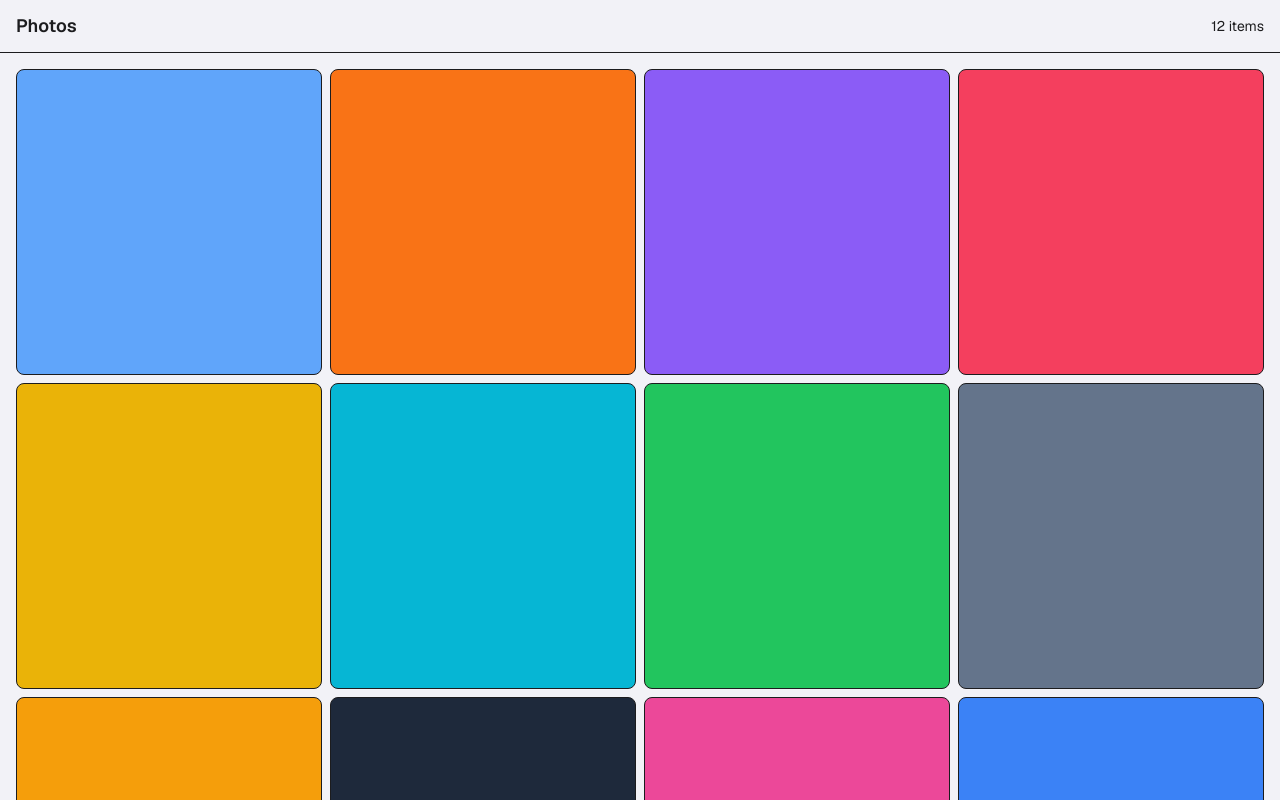
Scenario: Photos › closes the lightbox when the close button is clicked
The image size is (1280, 800).
What coordinates should you click on to do the following:
click the button with test id "photos-item-2"
I would click on:
 (483, 222)
Its box is [330,69,636,375].
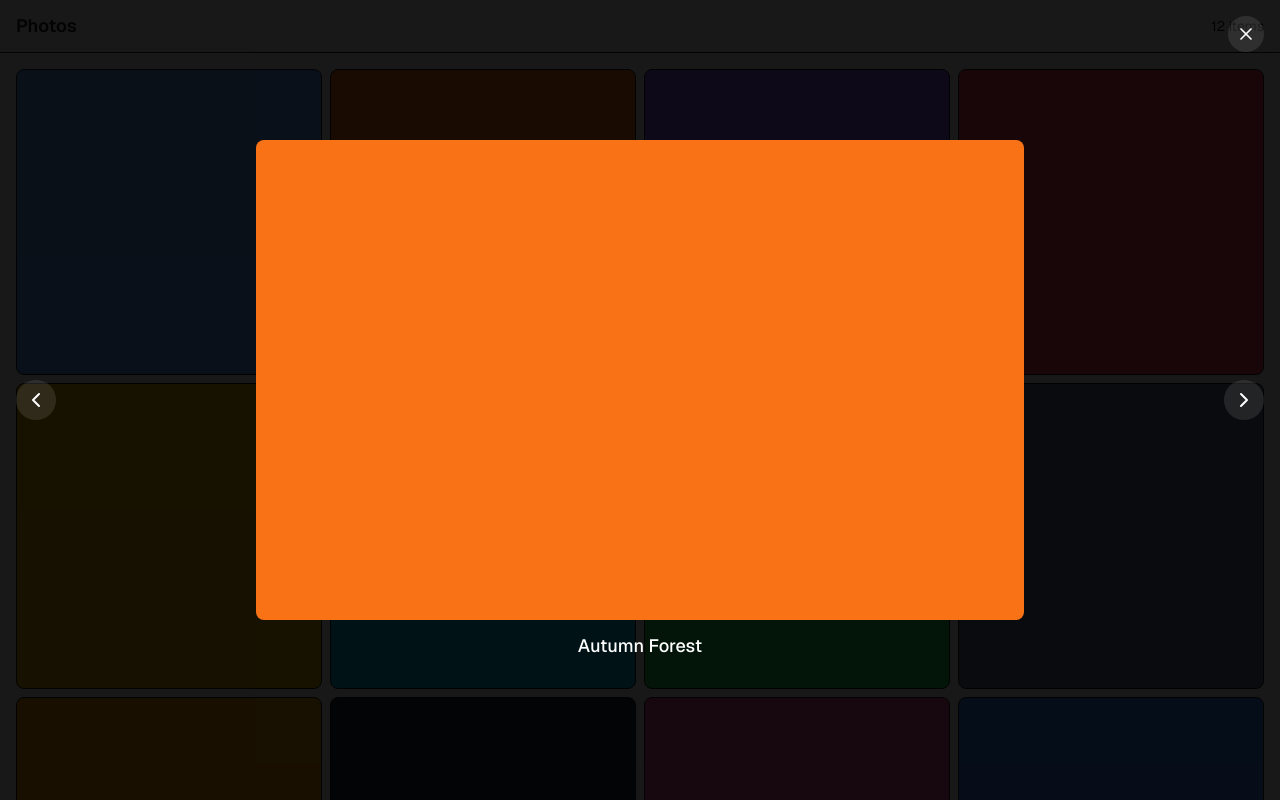
Check: the element with test id "photos-lightbox" is shown
What coordinates should you click on to do the following:
click the button with test id "photos-lightbox-close"
I would click on:
 (1246, 34)
Its box is [1228,16,1264,52].
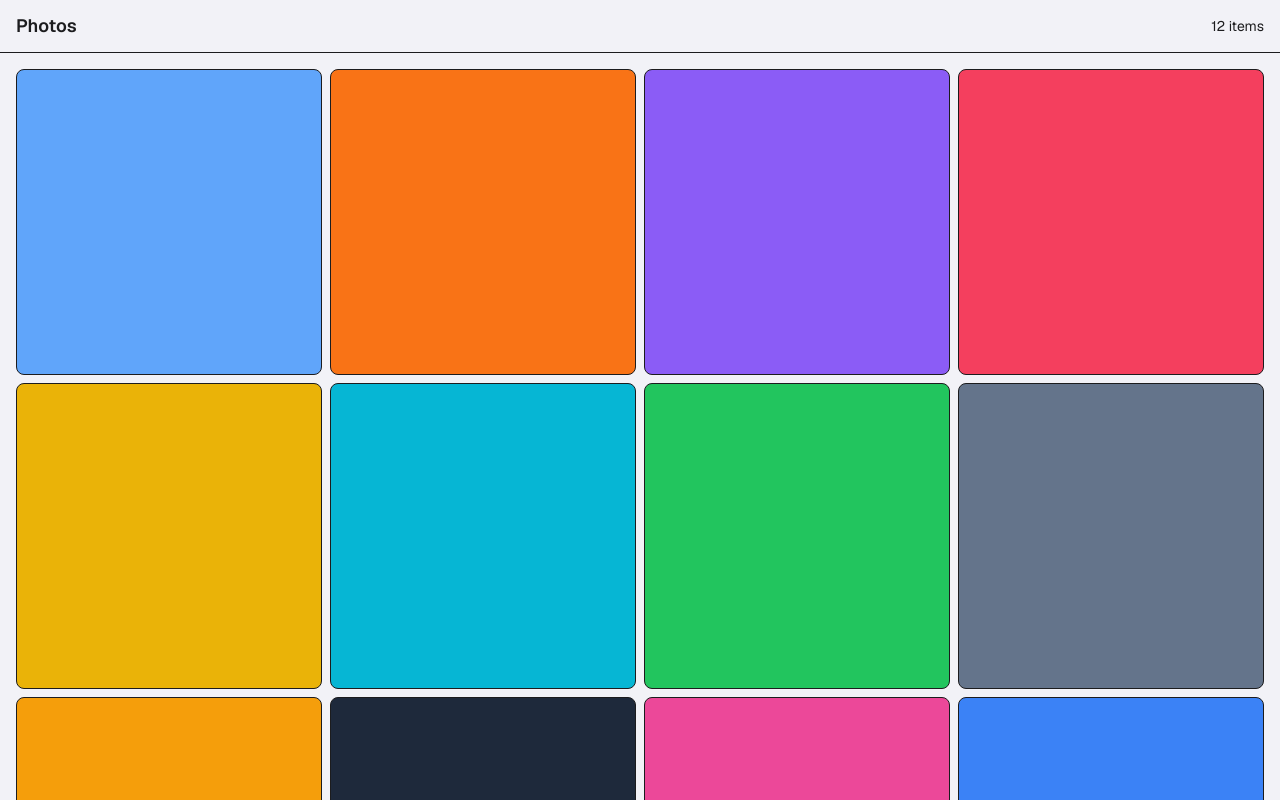
Check: the element with test id "photos-lightbox" is gone
